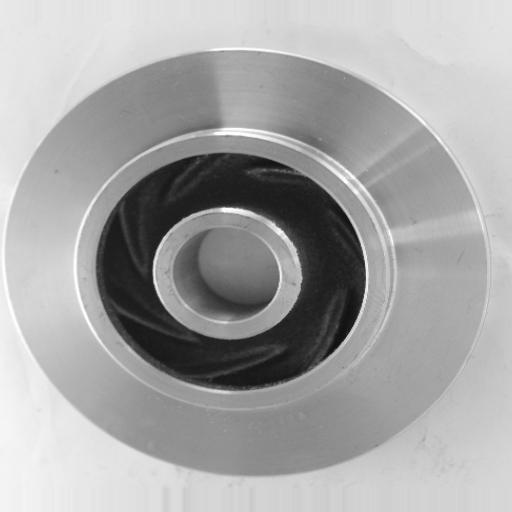polished_casting: (2, 47, 491, 480)
